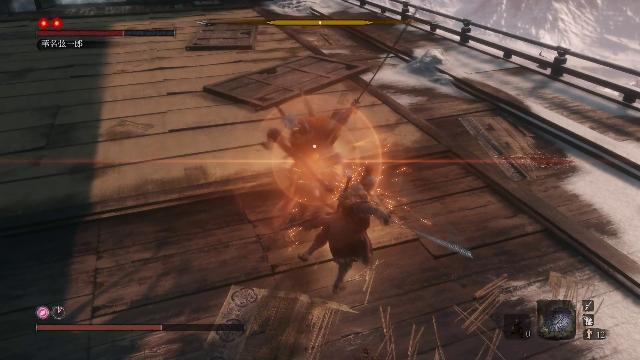sk: (298, 164, 397, 293)
